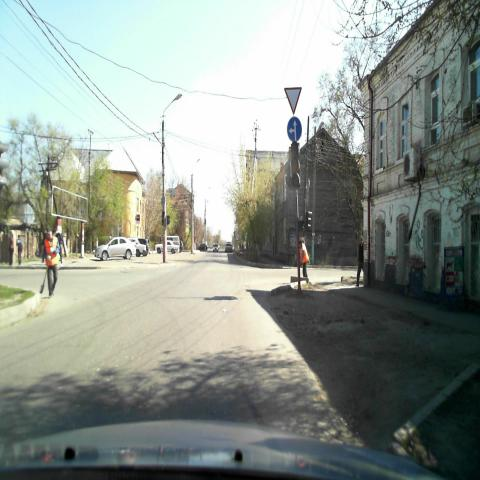4_1_5: (286, 116, 303, 144)
